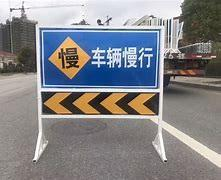sign: (39, 27, 162, 120)
